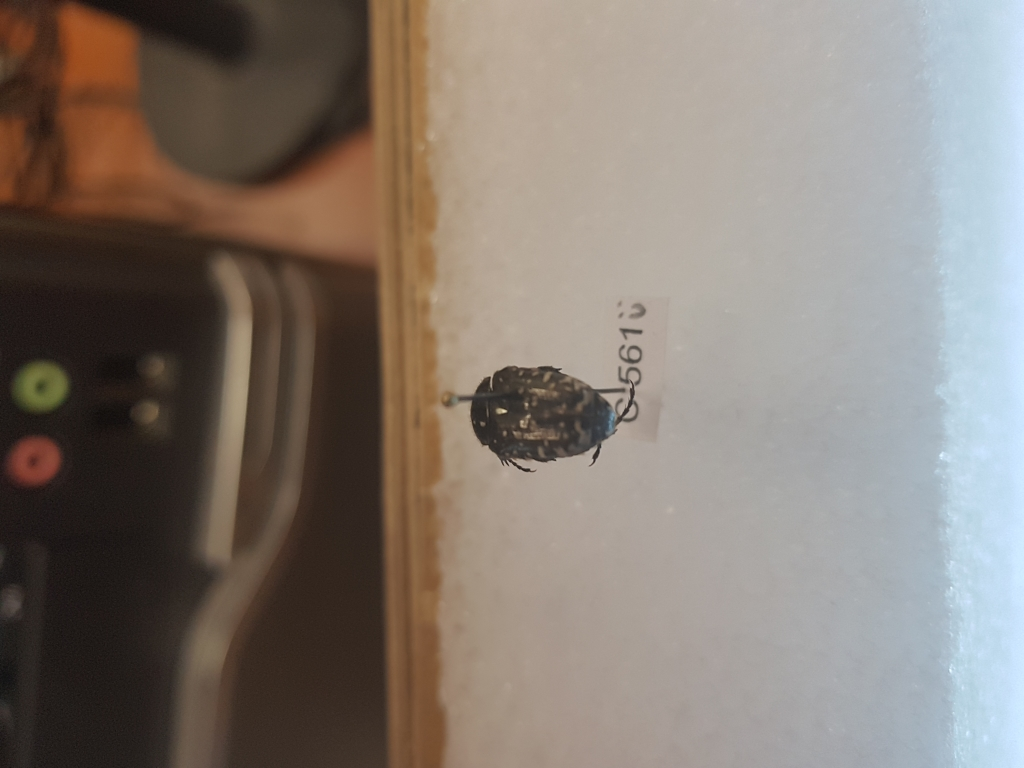Oxythyrea_funesta: (461, 360, 648, 467)
